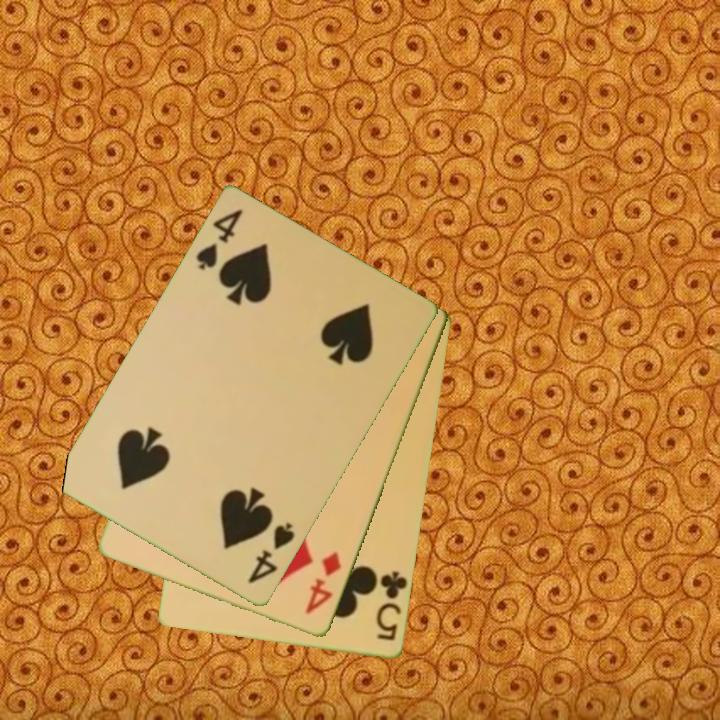4d: (302, 549, 345, 618)
4s: (244, 519, 298, 587), (192, 206, 246, 274)
5c: (373, 568, 410, 644)
